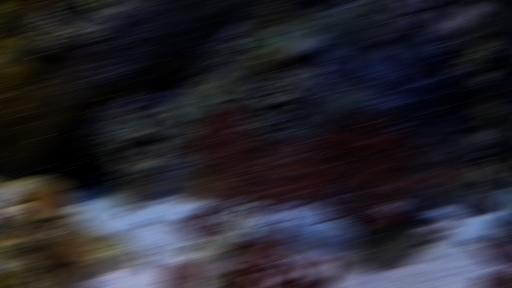Fish: (372, 210, 401, 228), (181, 241, 204, 255), (7, 208, 30, 219)
